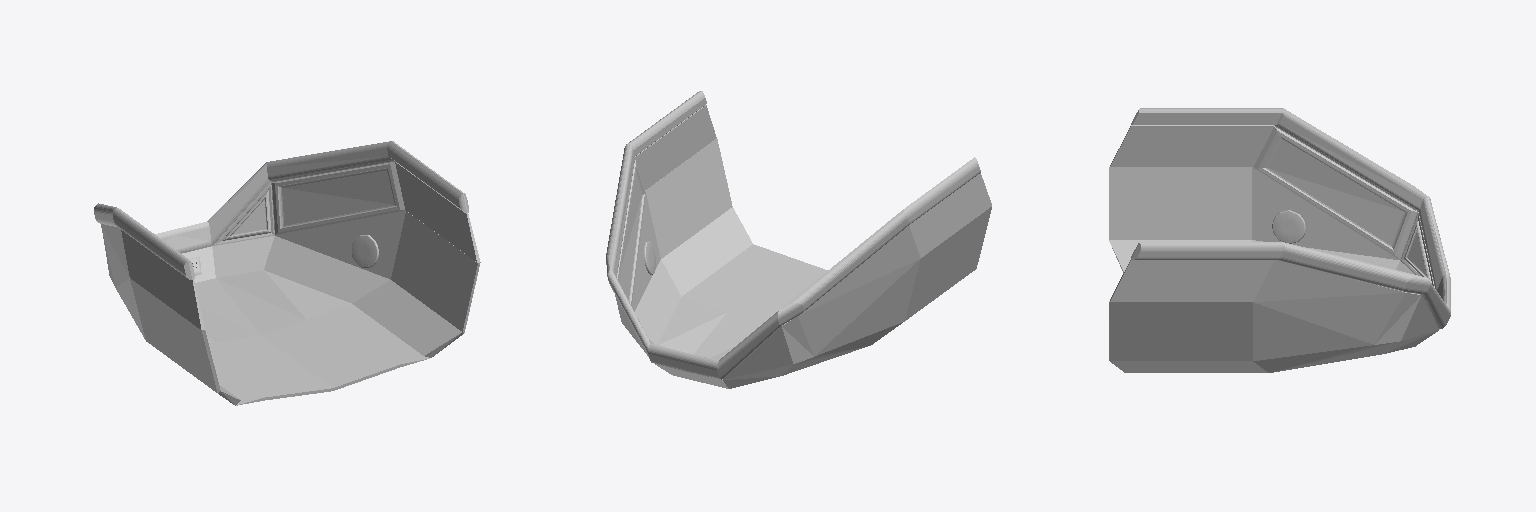
The model's file is maskHard.obj.
3 views of the same model, side by side, from view 1: azimuth 30°, elevation 25°; view 2: azimuth 150°, elevation 25°; view 3: azimuth 270°, elevation 25° (orthographic).
Visible parts, largest first — view 1: Cube_Cube.003; view 2: Cube_Cube.003; view 3: Cube_Cube.003.
Boxes of the visible parts, box(x1,y1,x2,y2) form: Cube_Cube.003: box(94, 141, 480, 405); Cube_Cube.003: box(606, 91, 991, 388); Cube_Cube.003: box(1109, 108, 1450, 372).
Bounding box in the file's own units: 2.63 × 1.43 × 2.76.